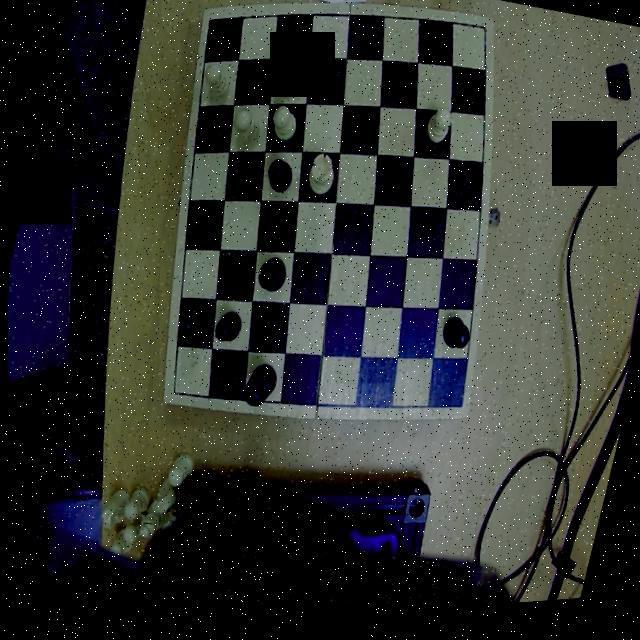chess-table-corners: (441, 393, 472, 427), (159, 379, 190, 412), (196, 8, 223, 44), (466, 18, 494, 50)
